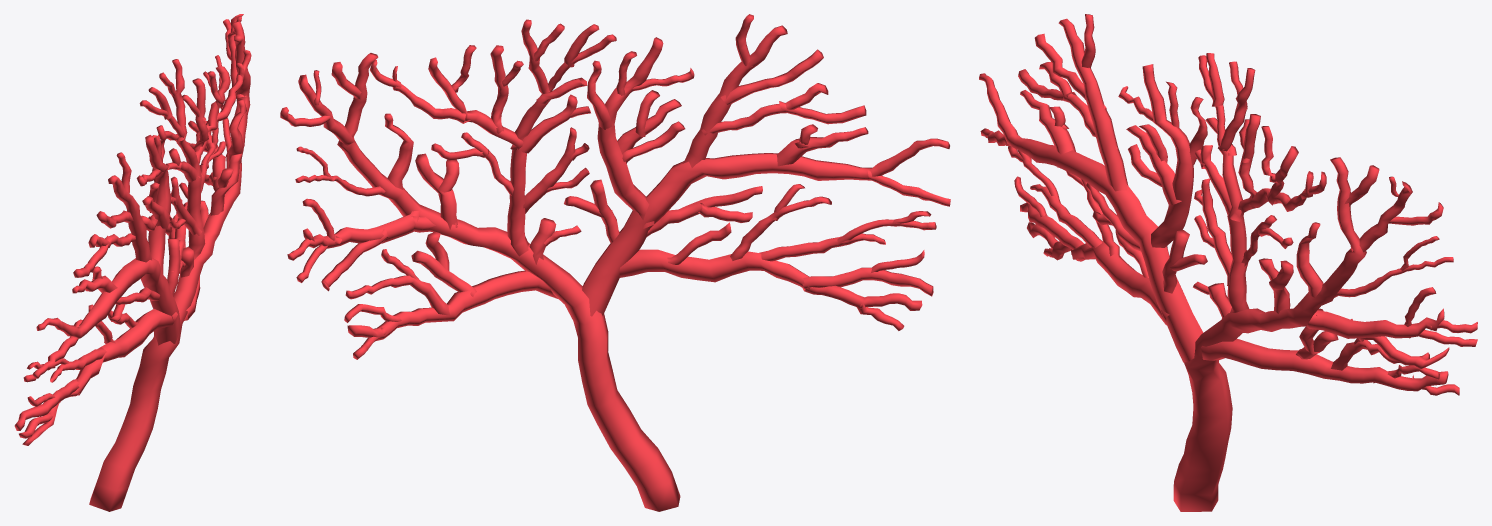
File: Coral-Fan-redGB.fbx
The picture shows the model from 3 angles, left to right: view 1: azimuth 30°, elevation 25°; view 2: azimuth 150°, elevation 25°; view 3: azimuth 270°, elevation 25°; orthographic projection. The views are drawn at different scales.
Visible parts, largest first — view 1: mesh1533979519; view 2: mesh1533979519; view 3: mesh1533979519.
Part boxes in pixels (x1,y1,x2,y2): mesh1533979519: [14, 14, 251, 511]; mesh1533979519: [280, 14, 950, 511]; mesh1533979519: [979, 14, 1477, 511].
Size of the model in its own units: 188 by 189 by 174.
